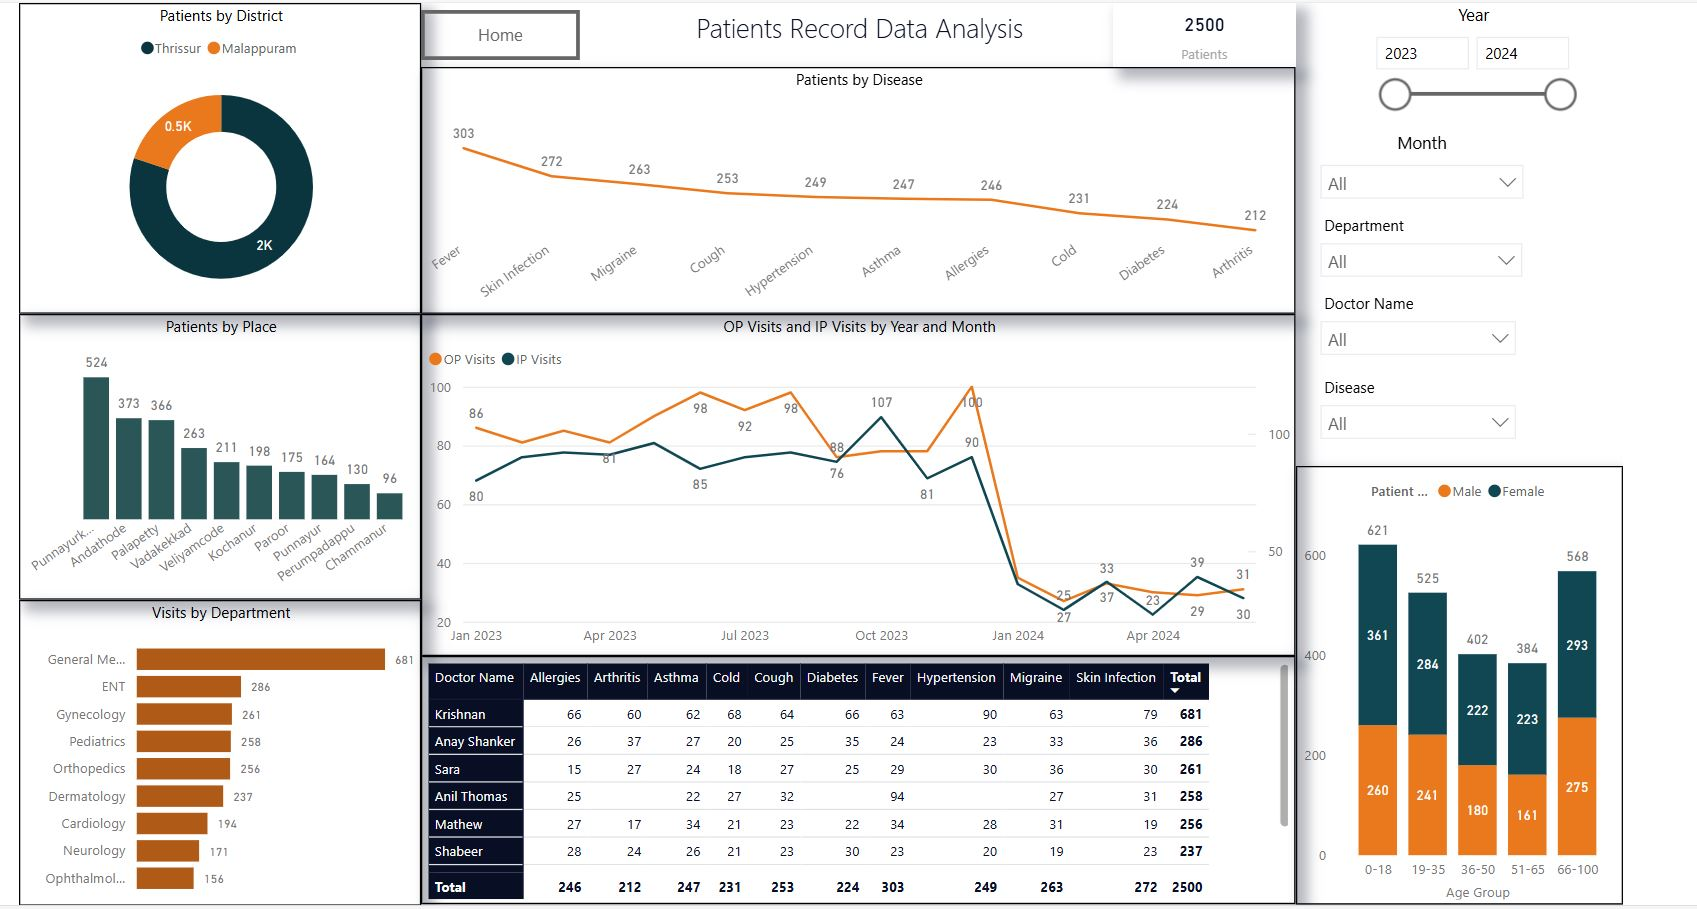

What the dashboard file says about the page in this screenshot:
{"tool":"powerbi","page":{"name":"Hospital desktop","canvas":[1280,720],"ordinal":0},"visuals":[{"type":"columnChart","fields":{"Category":["hs_data.Age Group"],"Y":["hs_data.Patient Name"],"Series":["hs_data.Patient Gender"]},"box":[1019.2,369.6,260.8,350.3],"z":0},{"type":"clusteredBarChart","title":"Visits by Department","fields":{"Category":["hs_data.Department"],"Y":["hs_data.Visits by Department"]},"box":[0,476.2,320.9,243.8],"z":1000},{"type":"pivotTable","fields":{"Columns":["hs_data.Sick Name"],"Values":["hs_data.Patient Name"],"Rows":["hs_data.Doctor Name"]},"box":[320.9,521.5,698.4,198.4],"z":2000},{"type":"columnChart","title":"Patients by Place","fields":{"Category":["hs_data.Place"],"Y":["hs_data.Patient Name"]},"box":[0,248.3,320.9,227.9],"z":3000},{"type":"donutChart","title":"Patients by District","fields":{"Category":["hs_data.District"],"Y":["hs_data.Patient Name"]},"box":[0,0,320.9,248.3],"z":4000},{"type":"slicer","title":"Year","fields":{"Values":["date_table.year"]},"box":[1070.3,0,181.4,102],"z":5000},{"type":"lineChart","fields":{"Category":["date_table.Date.Variation.Date Hierarchy.Year","date_table.Date.Variation.Date Hierarchy.Month"],"Y":["hs_data.OP Visits"],"Y2":["hs_data.IP Visits"]},"box":[320.9,248.3,698.4,273.2],"z":6000},{"type":"slicer","title":"Month","fields":{"Values":["date_table.month_name"]},"box":[1029,102,182,62],"z":7000},{"type":"lineChart","fields":{"Category":["hs_data.Sick Name"],"Y":["hs_data.Patient Name"]},"box":[321,51,698,197],"z":8000},{"type":"card","fields":{"Values":["hs_data.Total Patianet"]},"box":[873,0,146,51],"z":9000},{"type":"textbox","box":[536,0,320,51],"z":10000},{"type":"slicer","fields":{"Values":["hs_data.Department"]},"box":[1029,164,181,75],"z":11000},{"type":"slicer","fields":{"Values":["hs_data.Doctor Name"]},"box":[1029,226,176,69],"z":12000},{"type":"slicer","fields":{"Values":["hs_data.Sick Name"]},"box":[1029,293,176,67],"z":13000},{"type":"actionButton","box":[321,5.3,126.8,39.9],"z":14000}]}

Visuals, with their boxes in screenshot pixels (x1, y1, x2, y2):
columnChart - hs_data.Age Group x hs_data.Patient Name: rect(1284, 461, 1609, 898)
"Visits by Department" clusteredBarChart: rect(13, 594, 413, 898)
pivotTable - hs_data.Sick Name x hs_data.Patient Name: rect(413, 650, 1284, 898)
"Patients by Place" columnChart: rect(13, 310, 413, 594)
"Patients by District" donutChart: rect(13, 0, 413, 310)
"Year" slicer: rect(1348, 0, 1574, 127)
lineChart - date_table.Date.Variation.Date Hierarchy.Year x date_table.Date.Variation.Date Hierarchy.Month: rect(413, 310, 1284, 650)
"Month" slicer: rect(1296, 127, 1523, 204)
lineChart - hs_data.Sick Name x hs_data.Patient Name: rect(414, 64, 1284, 309)
card - hs_data.Total Patianet: rect(1102, 0, 1284, 64)
textbox: rect(682, 0, 1081, 64)
slicer - hs_data.Department: rect(1296, 204, 1522, 298)
slicer - hs_data.Doctor Name: rect(1296, 282, 1516, 368)
slicer - hs_data.Sick Name: rect(1296, 365, 1516, 449)
actionButton: rect(414, 7, 572, 56)
